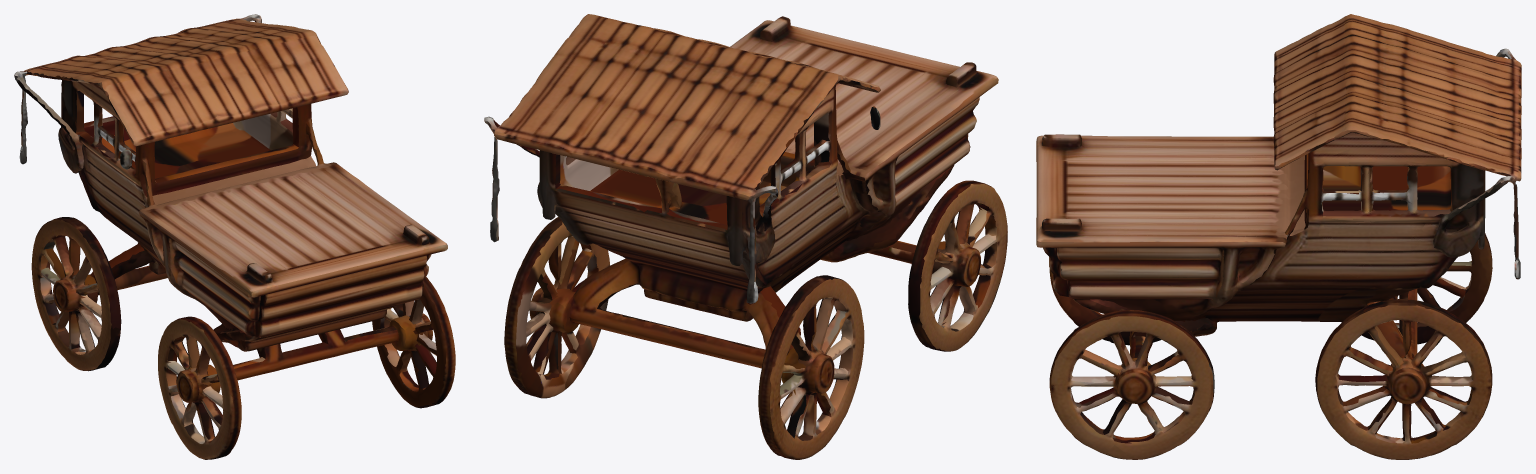
The model's file is carreta_madera.glb.
3 views of the same model, side by side, from view 1: azimuth 30°, elevation 25°; view 2: azimuth 150°, elevation 25°; view 3: azimuth 270°, elevation 25° (orthographic). The views are drawn at different scales.
Parts seen in each view (by area): view 1: tmpuorr951f.ply; view 2: tmpuorr951f.ply; view 3: tmpuorr951f.ply.
Part boxes in pixels (bbox=[...]): tmpuorr951f.ply: bbox=[14, 14, 455, 459]; tmpuorr951f.ply: bbox=[484, 14, 1007, 459]; tmpuorr951f.ply: bbox=[1036, 14, 1521, 459].
Size of the model in its own units: 0.636 by 0.7467 by 0.9886.
1 material, 1 textured.
